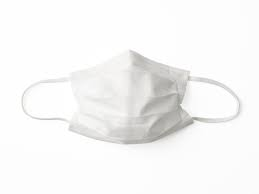mask: (43, 51, 196, 143)
